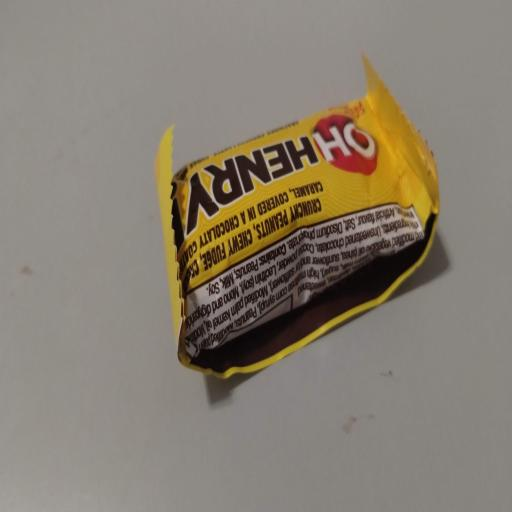chocolate: (156, 58, 438, 377)
